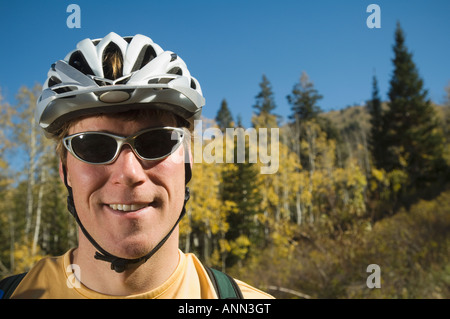helmet: (37, 31, 208, 273)
